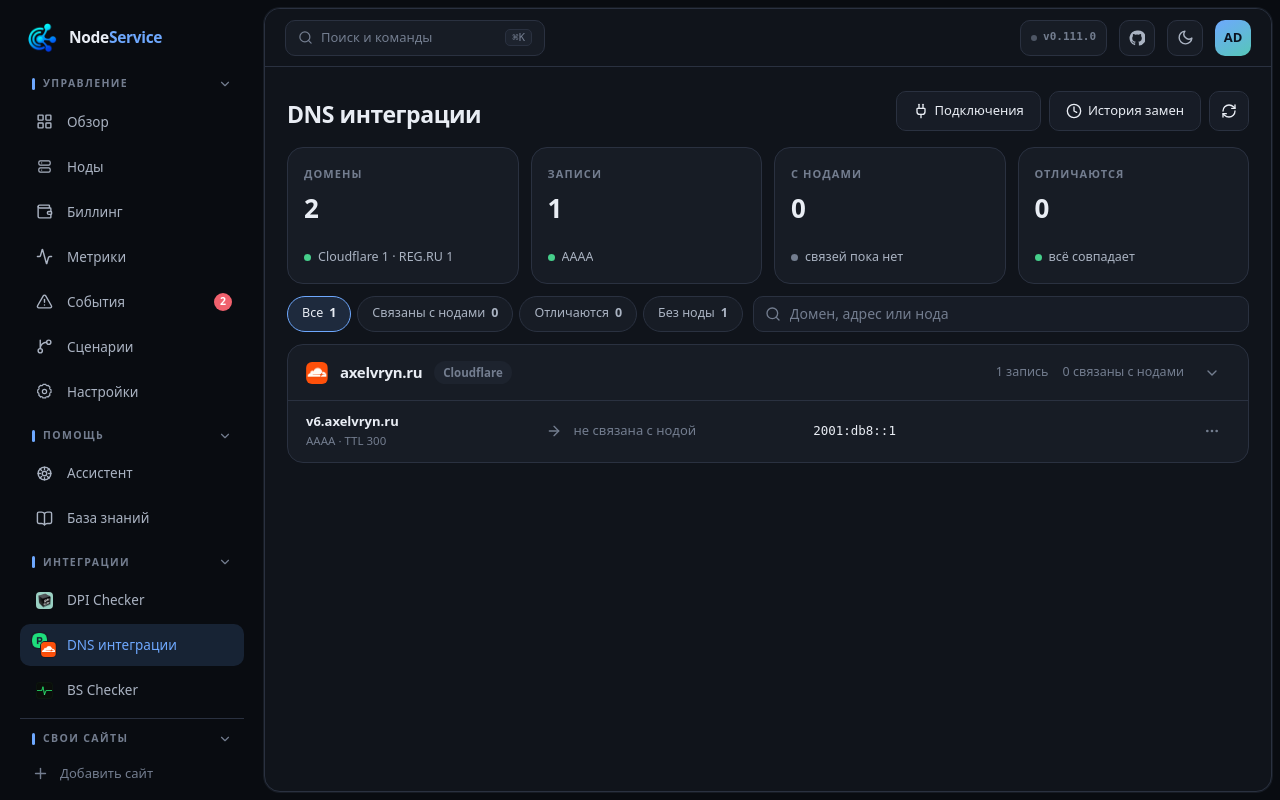
Scenario: DNS: свой адрес вместо адреса ноды (вариант B) › AAAA: нужен IPv6, IPv4 отклоняется
The width and height of the screenshot is (1280, 800).
Click the button with aria-label "Запись v6.axelvryn.ru". click: {"x": 352, "y": 420}
box: [306,412,1220,448]
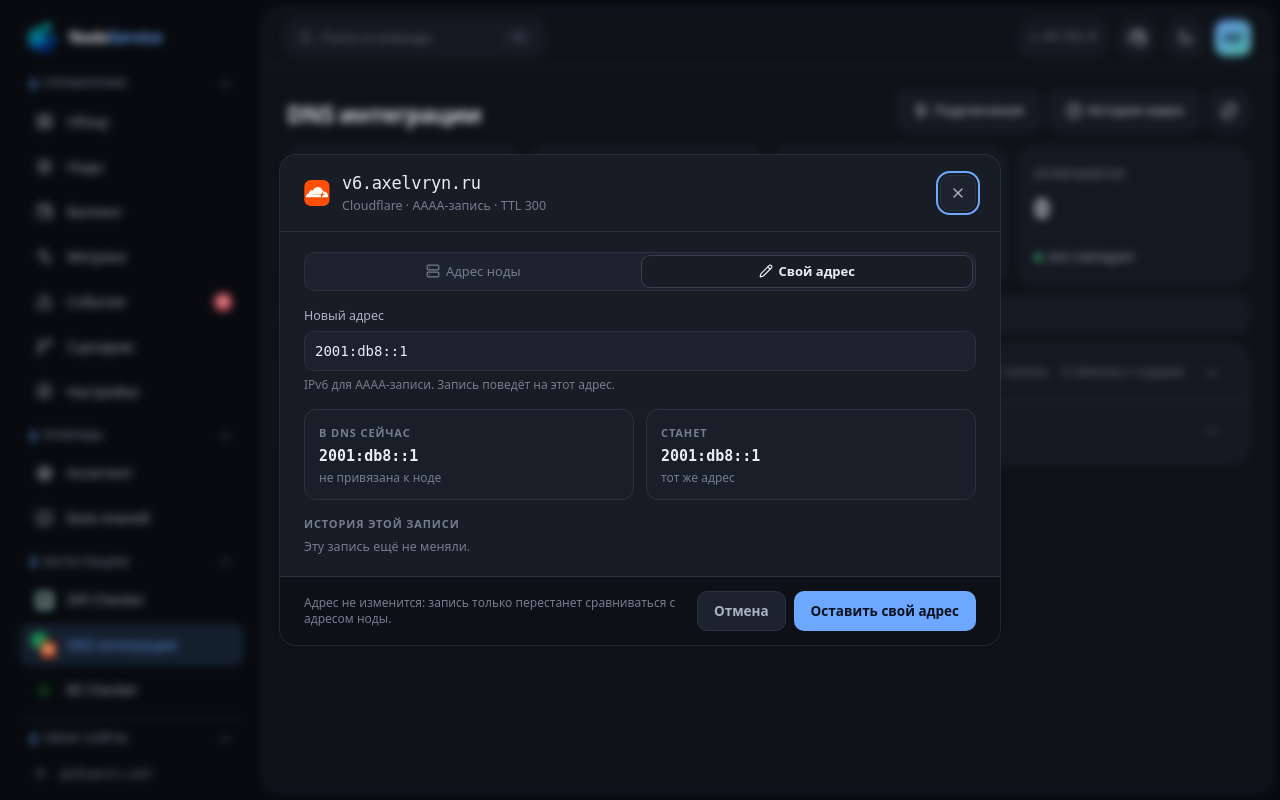
Type "203.0.113.10" into the field labelled "Новый адрес". click: {"x": 640, "y": 350}
box: [304,330,976,370]
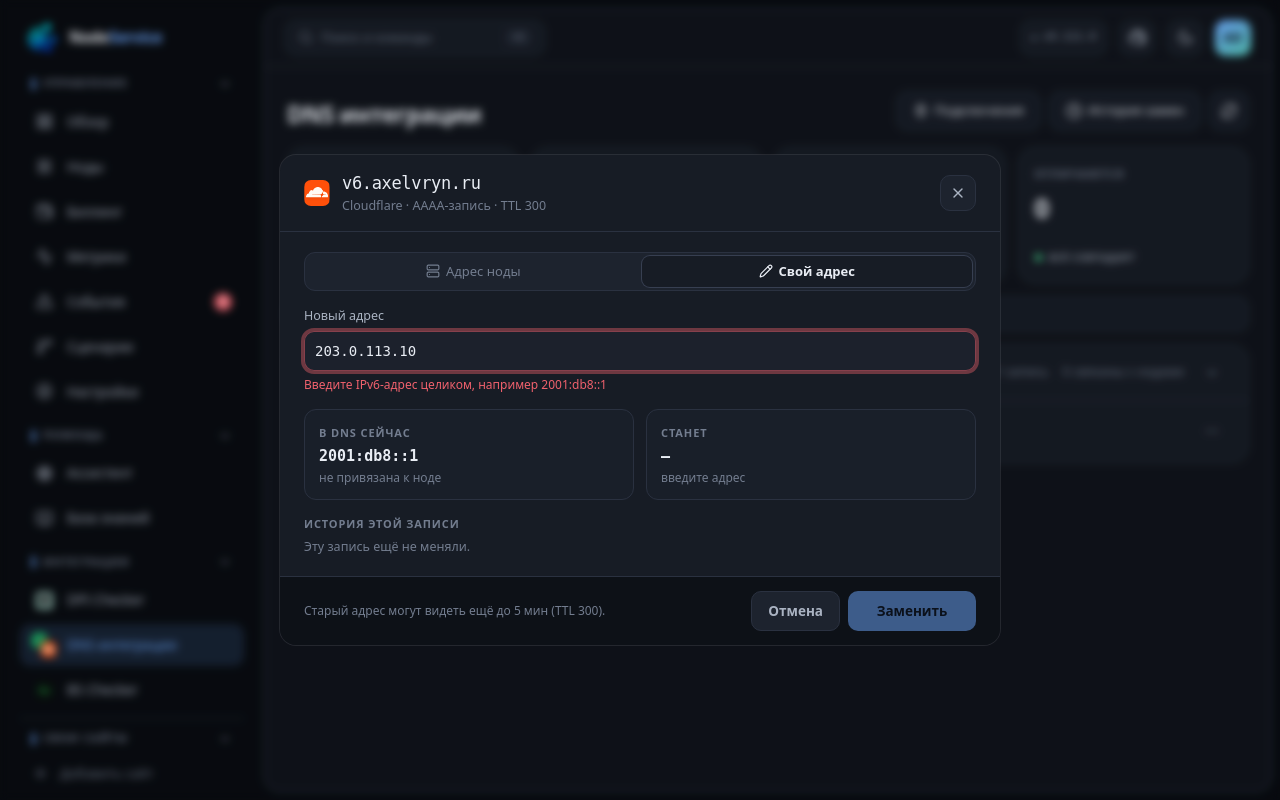
Expected: the text "Введите IPv6-адрес целиком, например 2001:db8::1" is shown, [304,376,607,392]
Replace the text in the field labelled "Новый адрес" with "2001:db8::2". click: {"x": 640, "y": 350}
box: [304,330,976,370]
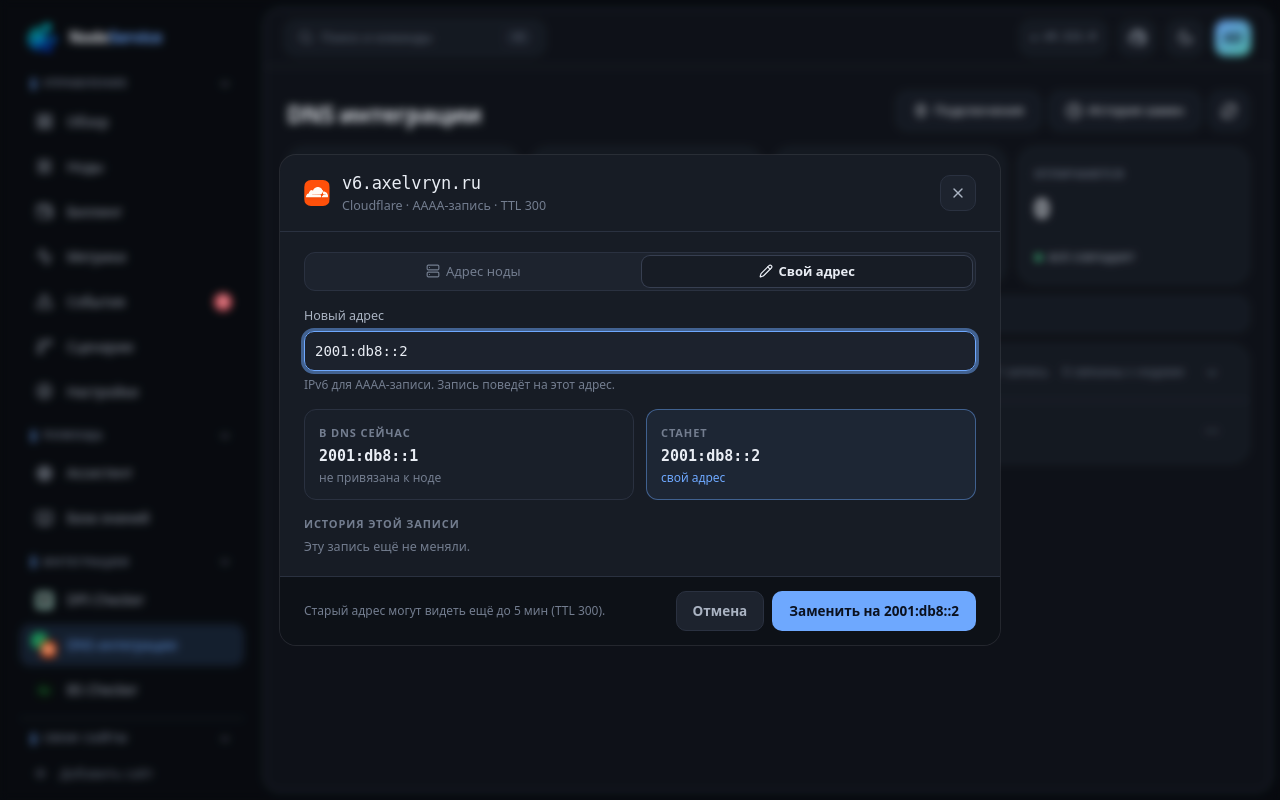
Expected: the button "Заменить на 2001:db8::2" is enabled, [772,591,976,631]
